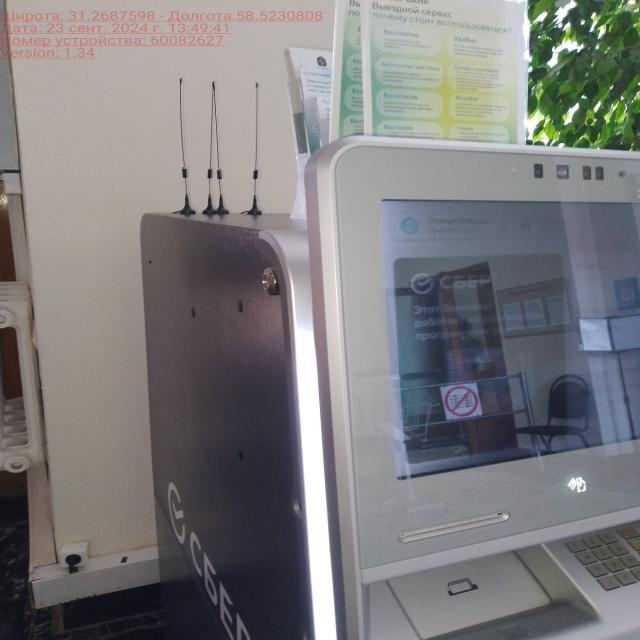bank: (137, 134, 640, 640)
